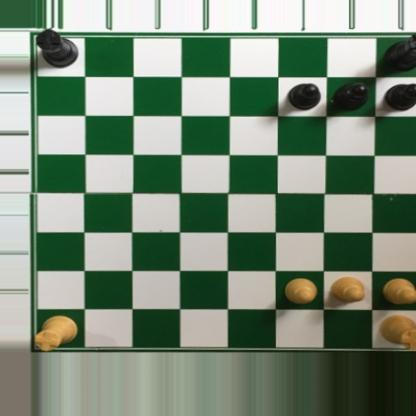black-pawn: (332, 81, 370, 113), (286, 82, 322, 111), (382, 82, 416, 111)
black-rook: (34, 28, 80, 68), (384, 31, 416, 72)
white-pawn: (330, 277, 367, 304), (381, 279, 416, 305), (285, 277, 317, 305)
white-rook: (31, 314, 80, 353), (380, 314, 416, 352)
